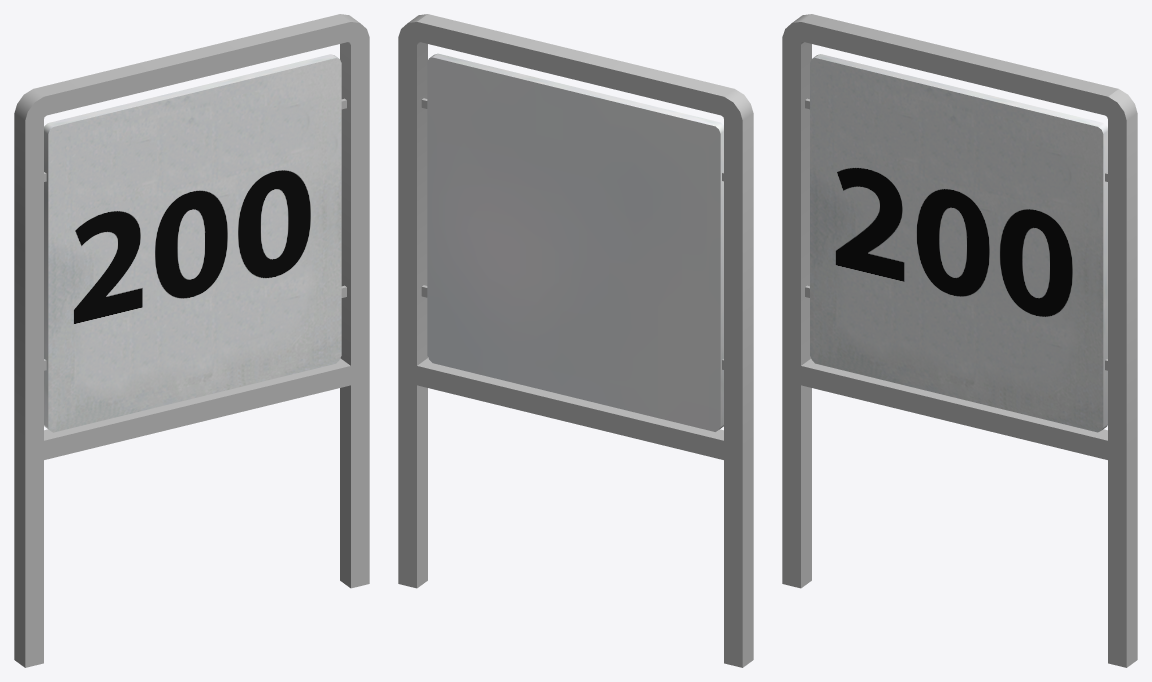
The model's file is Track_Sign_200_Black.fbx.
3 views of the same model, side by side, from view 1: azimuth 30°, elevation 25°; view 2: azimuth 150°, elevation 25°; view 3: azimuth 330°, elevation 25° (orthographic).
Parts seen in each view (by area): view 1: Speed_200, Frame; view 2: Speed_200, Frame; view 3: Speed_200, Frame.
Boxes of the visible parts, box(x1,y1,x2,y2) form: Speed_200: box(44, 54, 341, 432); Frame: box(14, 14, 369, 667); Speed_200: box(427, 53, 723, 431); Frame: box(398, 14, 753, 667); Speed_200: box(810, 54, 1107, 432); Frame: box(782, 14, 1137, 667).
Size of the model in its own units: 130 by 204 by 7.
